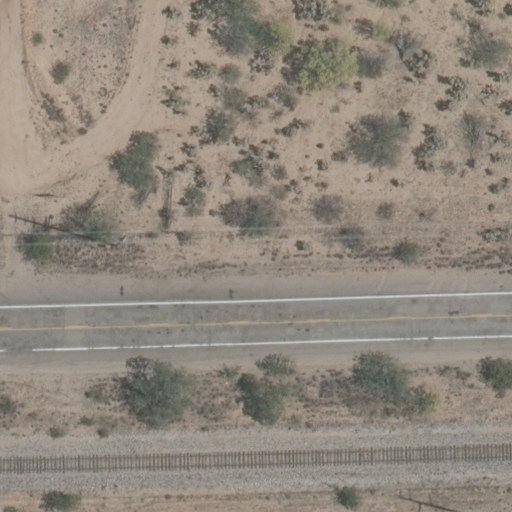DT: (10, 210, 70, 234)
